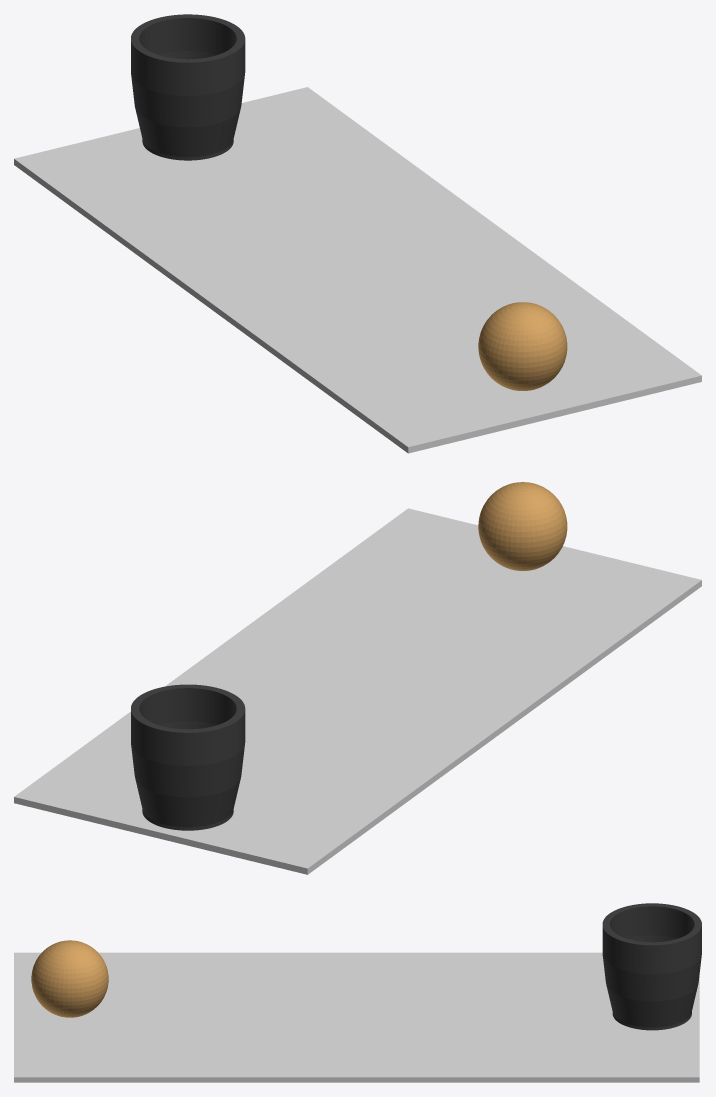
The model's file is Fist Attempt.fbx.
The picture shows the model from 3 angles, top to bottom: view 1: azimuth 30°, elevation 25°; view 2: azimuth 150°, elevation 25°; view 3: azimuth 270°, elevation 25°; orthographic projection. The views are drawn at different scales.
Visible parts, largest first — view 1: Cube, Cylinder, Sphere; view 2: Cube, Cylinder, Sphere; view 3: Cube, Cylinder, Sphere.
Part boxes in pixels (left/top/right/bottom): Cube: left=14, top=87, right=701, bottom=453; Cylinder: left=131, top=14, right=245, bottom=160; Sphere: left=478, top=302, right=567, bottom=390; Cube: left=14, top=508, right=701, bottom=874; Cylinder: left=131, top=684, right=245, bottom=830; Sphere: left=478, top=482, right=567, bottom=570; Cube: left=14, top=952, right=699, bottom=1082; Cylinder: left=602, top=903, right=701, bottom=1030; Sphere: left=31, top=940, right=108, bottom=1017.
Bounding box in the file's own units: 761 × 273 × 1776.
